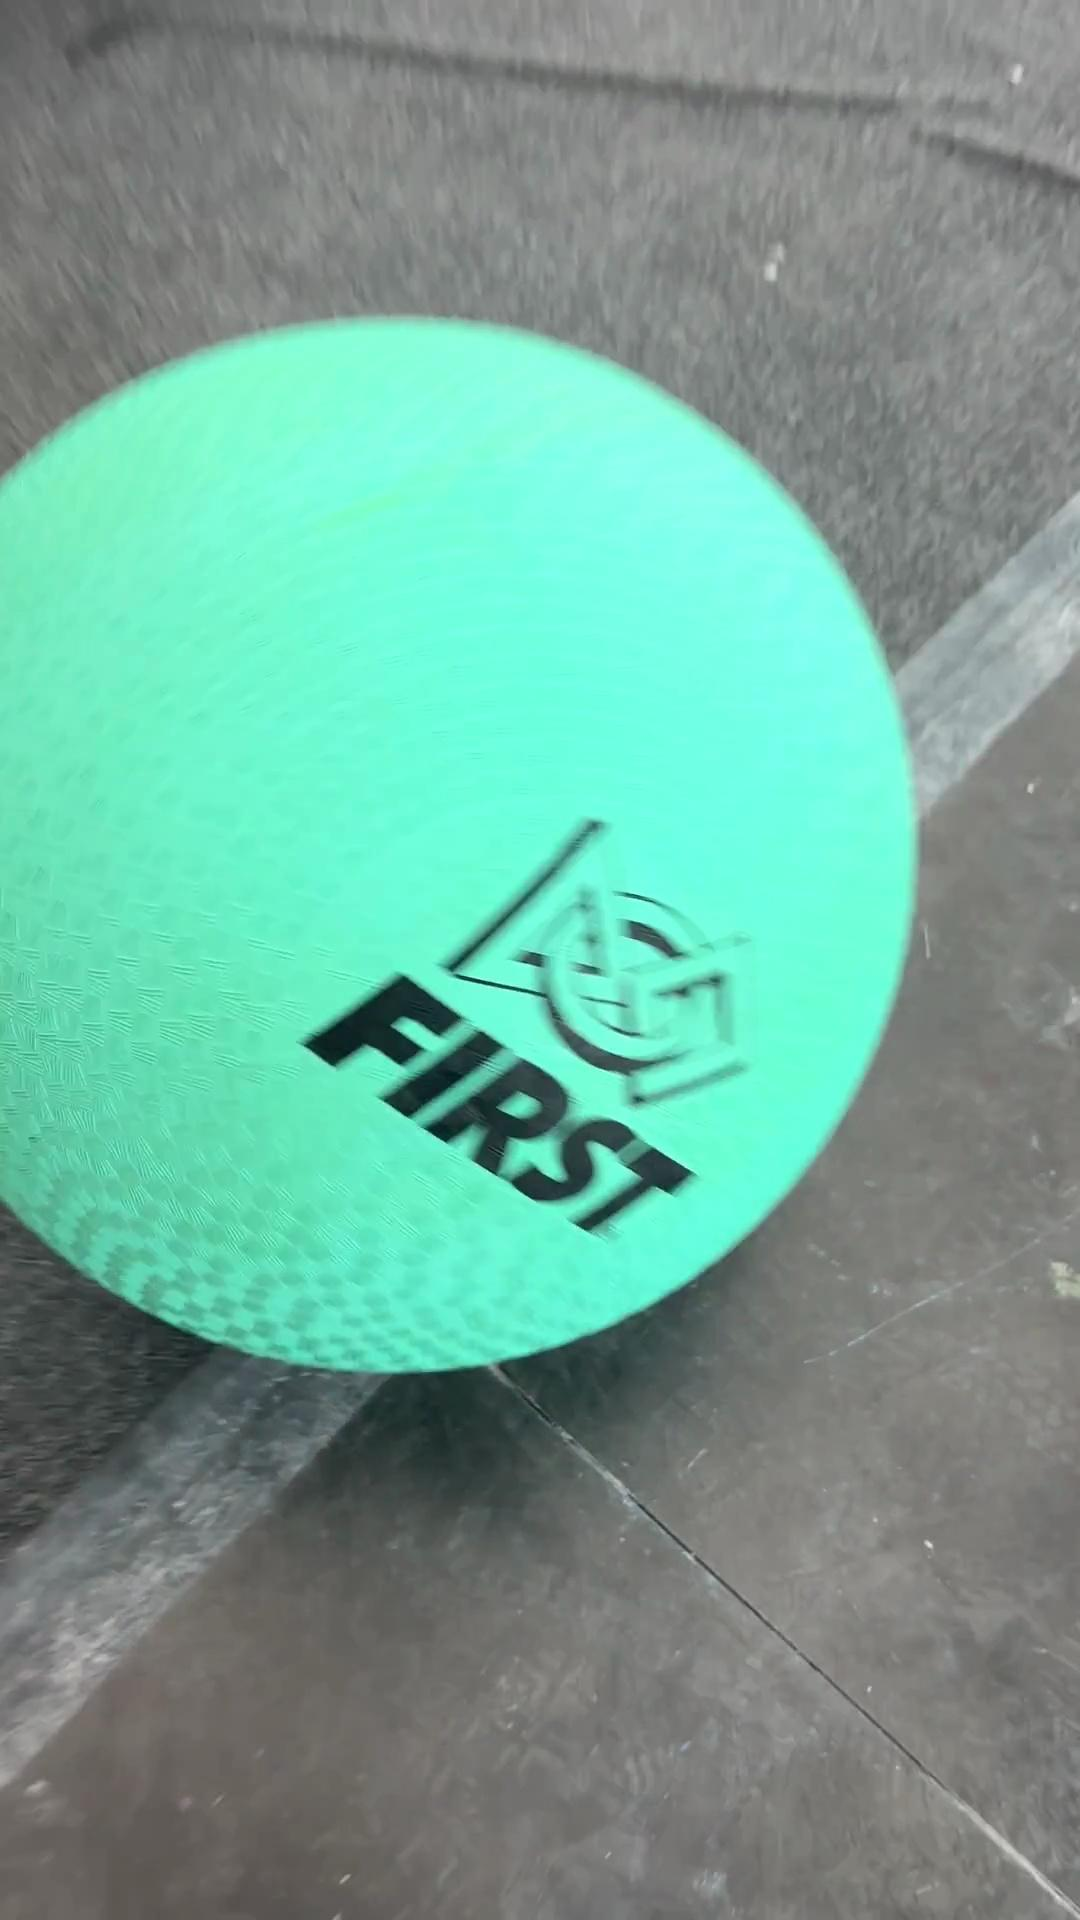ALGAE: (1, 311, 922, 1377)
